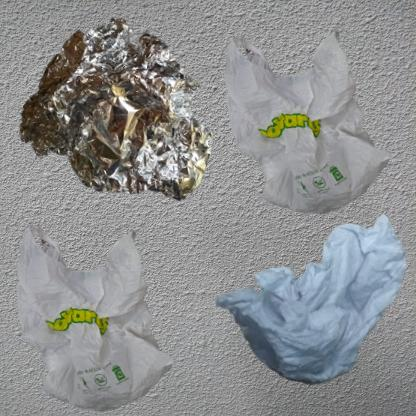aluminio: (10, 10, 219, 214)
bolsa: (213, 10, 407, 239), (10, 213, 181, 416)
papel: (213, 213, 409, 387)
